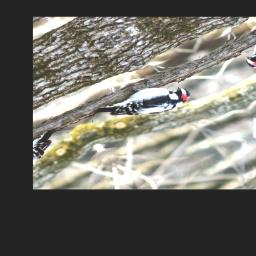Woodpecker: (87, 71, 196, 138)
